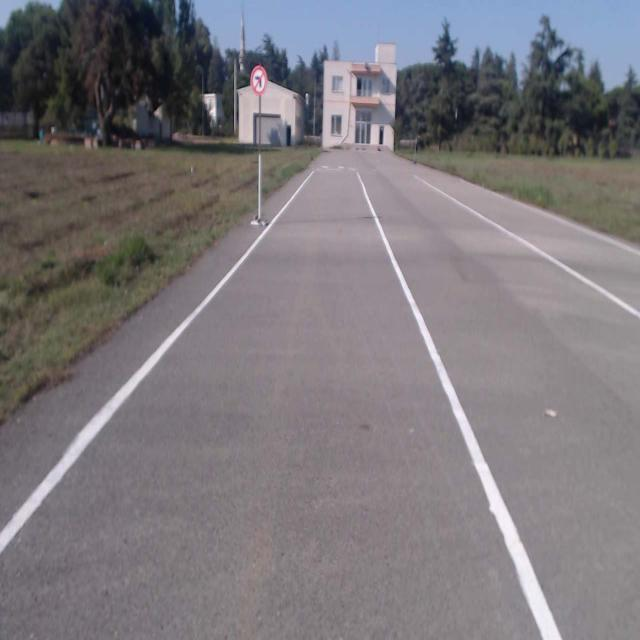soladonulmez: (251, 67, 266, 94)
